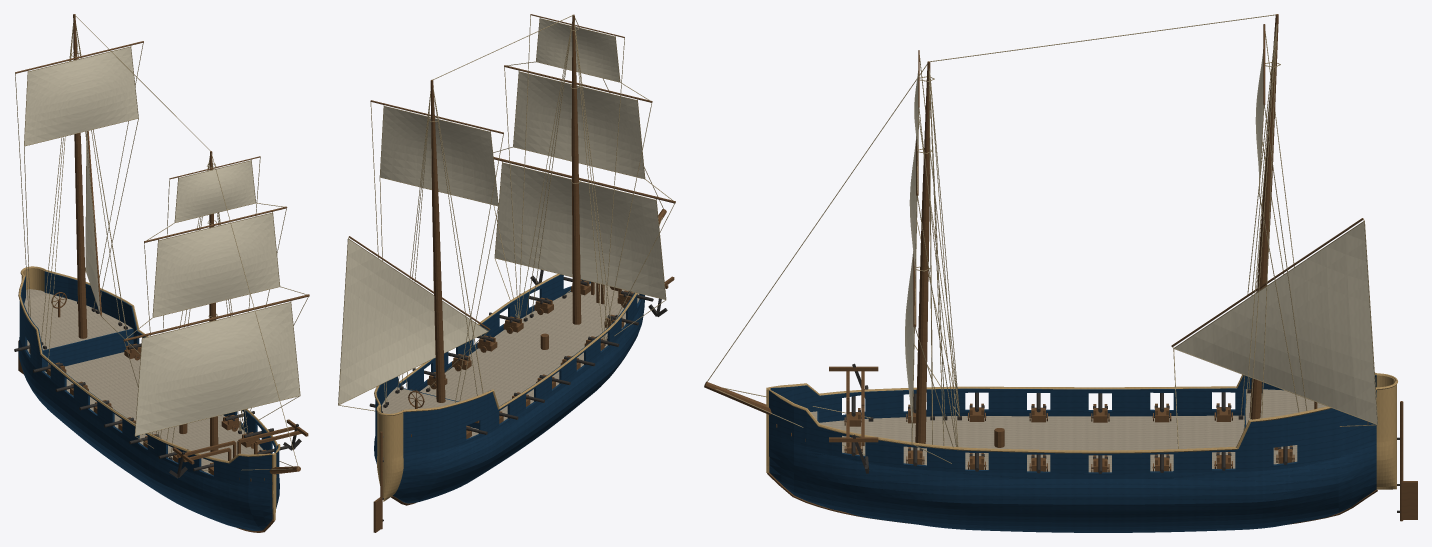
The model's file is ship.glb.
3 renders of one model, left to right at view 1: azimuth 30°, elevation 25°; view 2: azimuth 150°, elevation 25°; view 3: azimuth 270°, elevation 25°, orthographic. The views are drawn at different scales.
Visible parts, largest first — view 1: fore_square_00, hull_shell_starboard, fore_square_01, main_square_00, main_deck, fore_square_02, castle_deck_0, hull_shell_port, main, castle_bulkhead_0_1, main_lateen_01, gunwale_starboard (+7 smaller); view 2: fore_square_00, hull_shell_starboard, main_lateen_01, fore_square_01, main_deck, main_square_00, fore_square_02, hull_shell_port, main, fore, stern_closure, castle_deck_0 (+2 smaller); view 3: hull_shell_port, main_lateen_01, main_deck, hull_shell_starboard, fore, main, stern_closure, gunwale_port, castle_deck_0, gunwale_starboard, fore_square_00.
Part boxes in pixels (x1,y1,x2,y2): fore_square_00: (135, 302, 299, 435); hull_shell_starboard: (18, 276, 272, 530); fore_square_01: (153, 213, 279, 317); main_square_00: (24, 47, 138, 145); main_deck: (27, 340, 262, 473); fore_square_02: (175, 161, 255, 222); castle_deck_0: (24, 289, 132, 350); hull_shell_port: (44, 271, 279, 508); main: (73, 14, 87, 338); castle_bulkhead_0_1: (42, 328, 133, 371); main_lateen_01: (85, 131, 100, 312); gunwale_starboard: (18, 275, 272, 463); fore_square_00: (495, 163, 665, 299); hull_shell_starboard: (392, 292, 644, 503); main_lateen_01: (338, 239, 487, 404); fore_square_01: (513, 72, 644, 178); main_deck: (383, 283, 639, 459); main_square_00: (380, 106, 498, 205); fore_square_02: (536, 19, 619, 81); hull_shell_port: (374, 274, 590, 463); main: (430, 80, 445, 402); fore: (571, 14, 581, 324); stern_closure: (377, 406, 403, 501); castle_deck_0: (382, 387, 457, 437); hull_shell_port: (769, 390, 1376, 532); main_lateen_01: (1175, 222, 1377, 423); main_deck: (819, 415, 1297, 472); hull_shell_starboard: (770, 375, 1376, 422); fore: (915, 61, 930, 443); main: (1249, 14, 1278, 419); stern_closure: (1376, 375, 1396, 489); gunwale_port: (768, 387, 1377, 453); castle_deck_0: (1246, 389, 1326, 425); gunwale_starboard: (768, 372, 1376, 395); fore_square_00: (905, 251, 913, 427).
Bounding box in the file's own units: 11.68 × 24.4 × 30.52.
7 materials, 7 textured.
